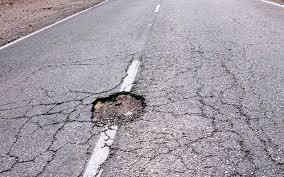alligator-crack: (176, 58, 253, 171), (7, 78, 73, 166), (82, 132, 172, 177)
pothole: (85, 92, 147, 129)
